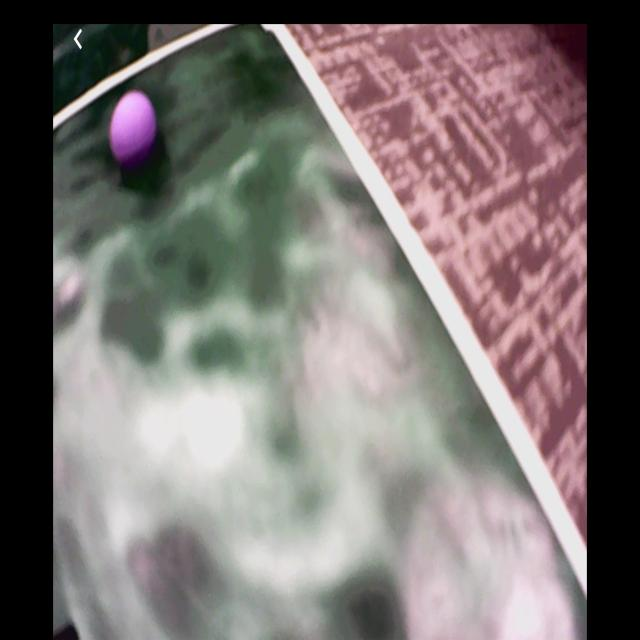ball: (110, 90, 157, 163)
